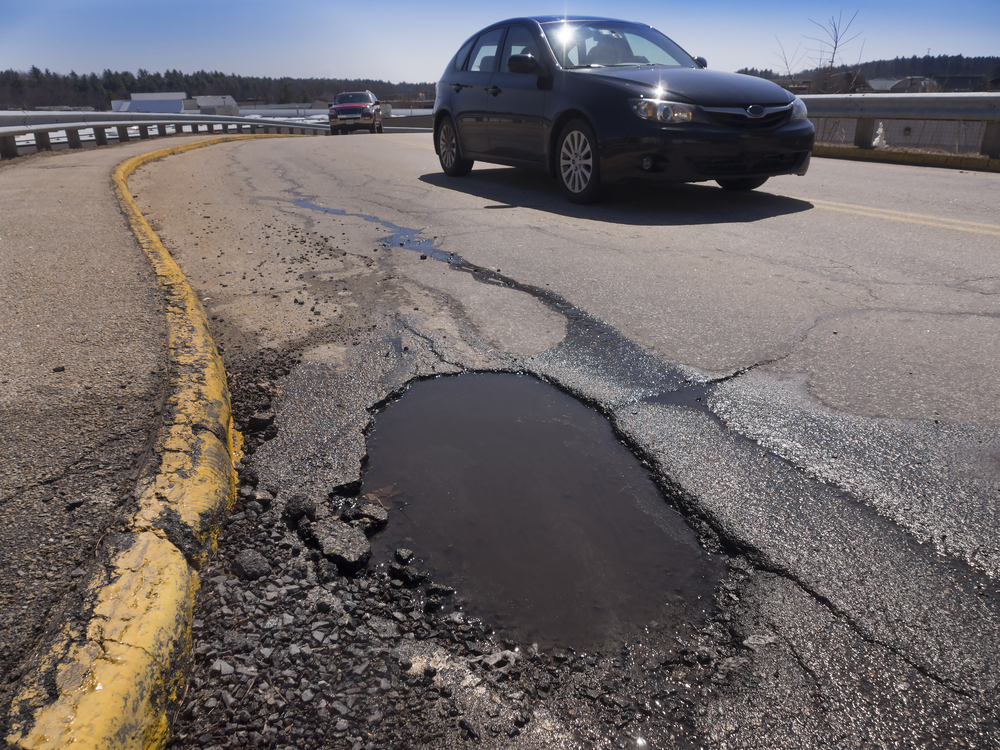Car: (429, 16, 817, 214), (320, 87, 384, 131)
Hole_in_the_road: (284, 343, 791, 689)
